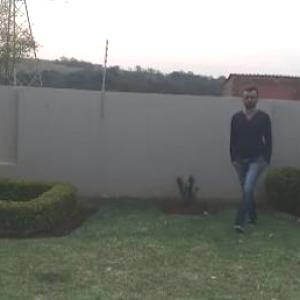follow: (216, 88, 272, 214)
